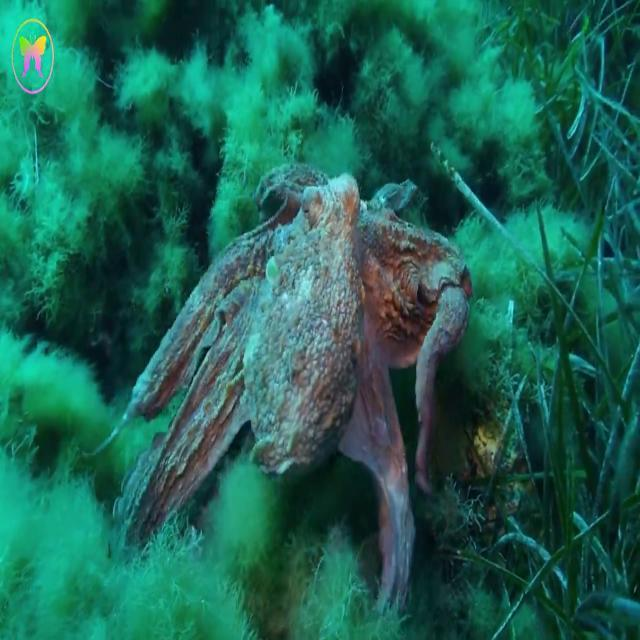octopus: (65, 148, 478, 620)
